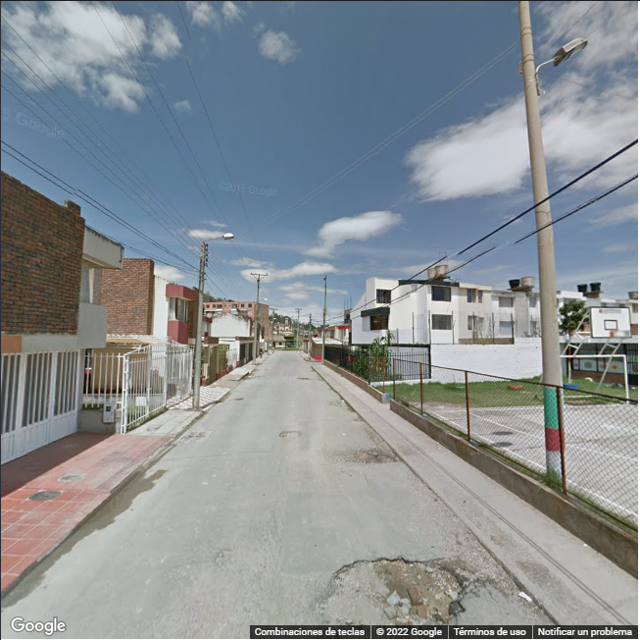D10: (161, 554, 215, 580)
D40: (324, 559, 452, 623)
